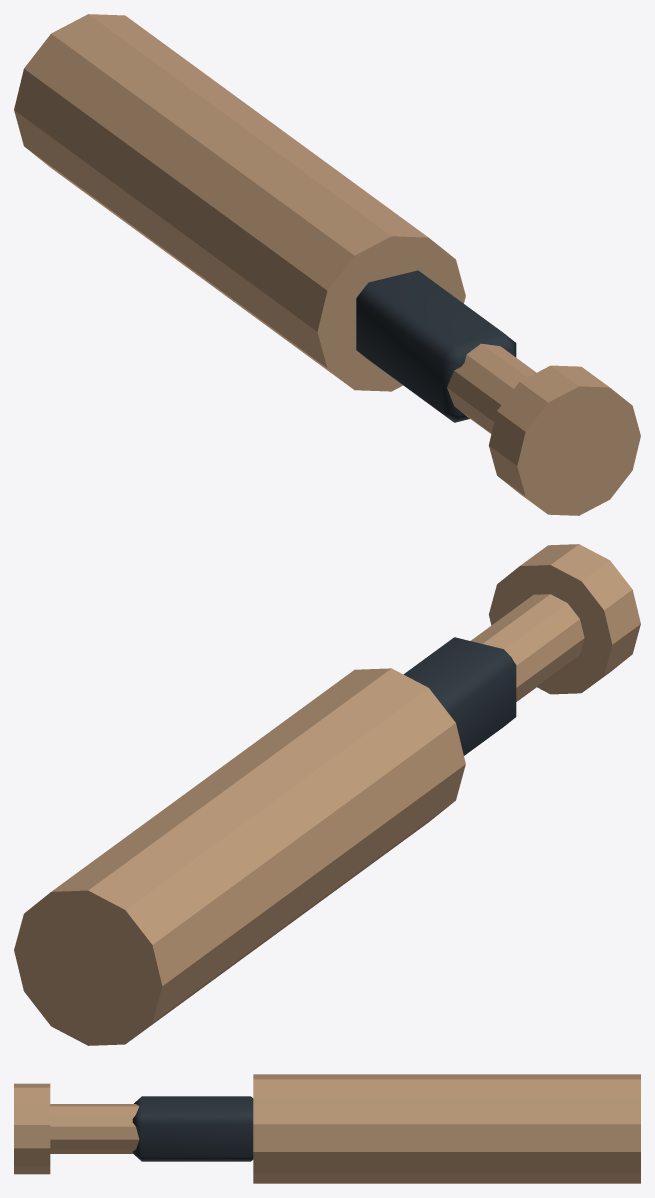
The model's file is bat.glb.
3 views of the same model, one above another, from view 1: azimuth 30°, elevation 25°; view 2: azimuth 150°, elevation 25°; view 3: azimuth 270°, elevation 25° (orthographic). The views are drawn at different scales.
Parts seen in each view (by area): view 1: bat_barrel, bat_knob, bat_grip_tape, bat_handle; view 2: bat_barrel, bat_knob, bat_grip_tape, bat_handle; view 3: bat_barrel, bat_grip_tape, bat_handle, bat_knob.
Part boxes in pixels (<box>): bat_barrel: <box>14,14,465,391</box>; bat_knob: <box>488,365,640,515</box>; bat_grip_tape: <box>356,270,516,422</box>; bat_handle: <box>447,343,536,433</box>; bat_barrel: <box>14,668,465,1045</box>; bat_knob: <box>488,544,640,694</box>; bat_grip_tape: <box>403,637,516,755</box>; bat_handle: <box>471,594,584,701</box>; bat_barrel: <box>253,1074,640,1183</box>; bat_grip_tape: <box>132,1096,253,1161</box>; bat_handle: <box>50,1104,139,1153</box>; bat_knob: <box>14,1083,50,1174</box>.
Size of the model in its own units: 0.24 by 0.24 by 1.38.
